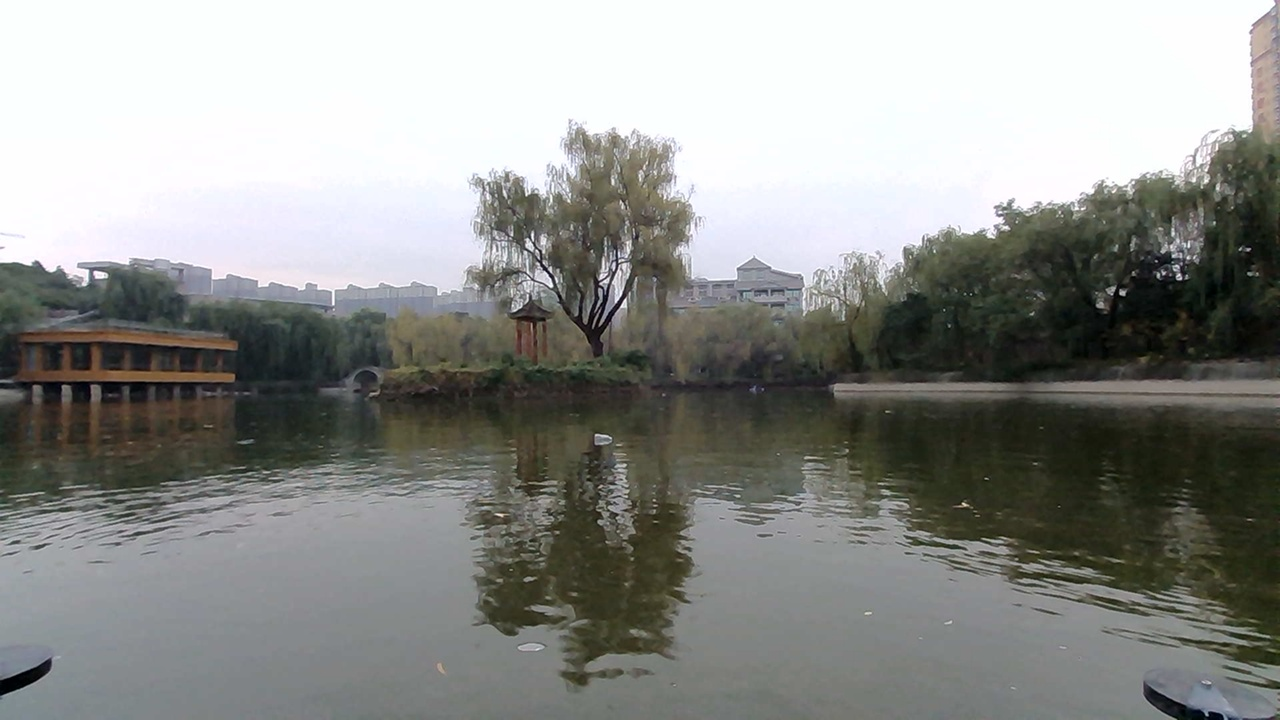bottle: (594, 416, 658, 449)
